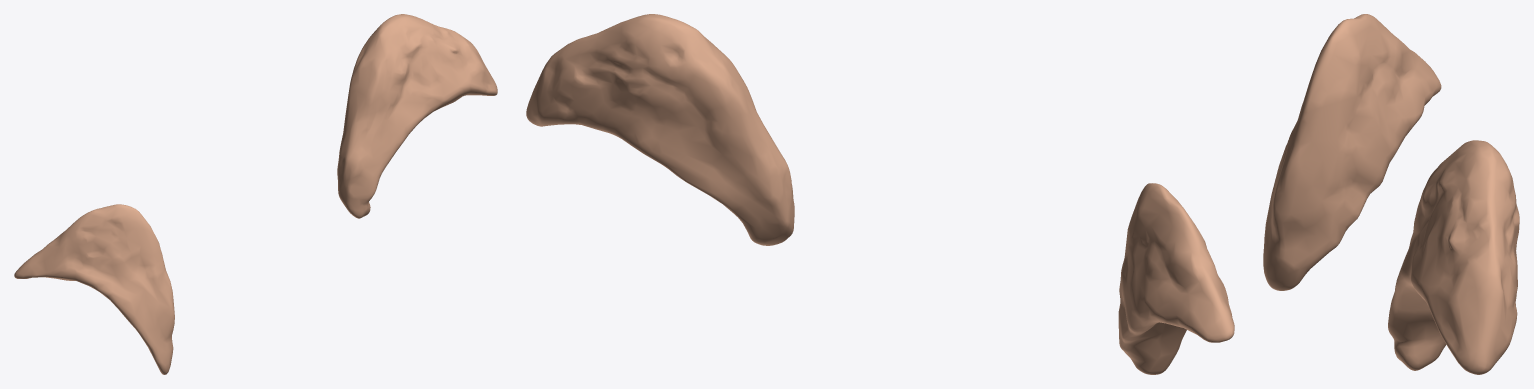
File: endocrine.abdomen.glb
The picture shows the model from 3 angles, left to right: view 1: azimuth 30°, elevation 25°; view 2: azimuth 150°, elevation 25°; view 3: azimuth 270°, elevation 25°; orthographic projection. The views are drawn at different scales.
Visible parts, largest first — view 1: left_adrenal_gland, right_adrenal_gland; view 2: left_adrenal_gland, right_adrenal_gland; view 3: right_adrenal_gland, left_adrenal_gland.
Part boxes in pixels (<box>): left_adrenal_gland: <box>337,14,497,218</box>; right_adrenal_gland: <box>14,204,174,374</box>; left_adrenal_gland: <box>526,14,794,245</box>; right_adrenal_gland: <box>1118,183,1234,374</box>; right_adrenal_gland: <box>1263,14,1441,290</box>; left_adrenal_gland: <box>1388,140,1519,374</box>.
Bounding box in the file's own units: 0.138 × 0.0627 × 0.0392.
